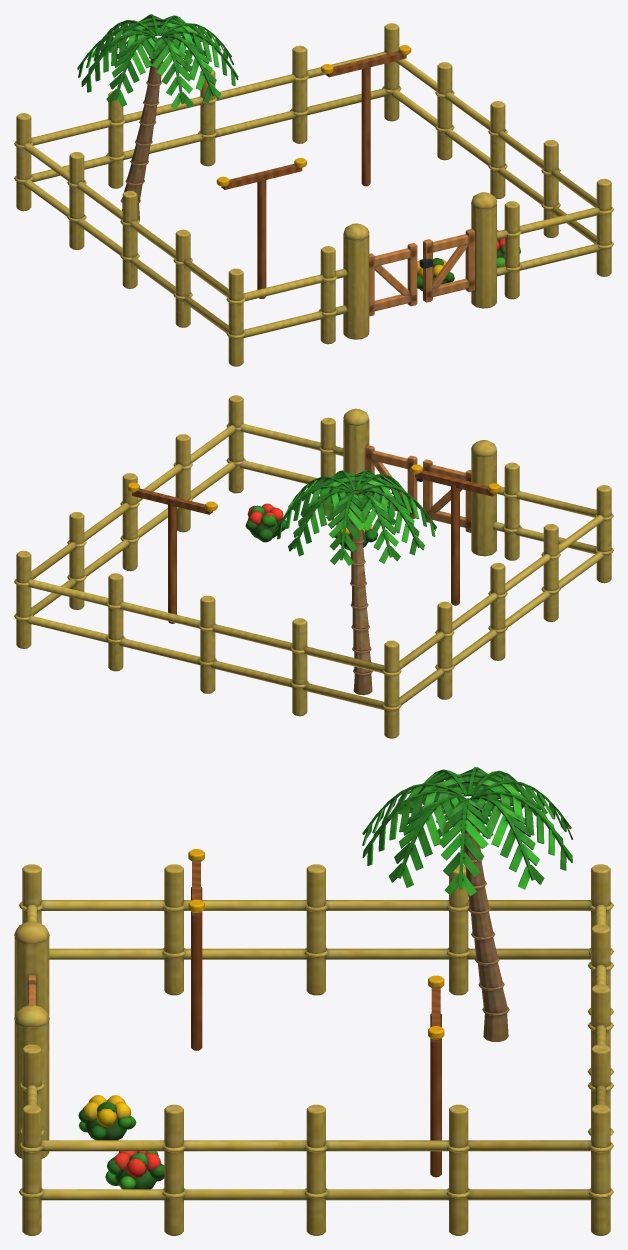
The model's file is parrot_aviary.glb.
The picture shows the model from 3 angles, top to bottom: view 1: azimuth 30°, elevation 25°; view 2: azimuth 150°, elevation 25°; view 3: azimuth 270°, elevation 25°; orthographic projection. The views are drawn at different scales.
Parts seen in each view (by area): view 1: parrot_aviary, gate1, gate0; view 2: parrot_aviary, gate0, gate1; view 3: parrot_aviary.
Part boxes in pixels (box(x1,y1,x2,y2)): parrot_aviary: box(14, 14, 613, 366); gate1: box(419, 229, 474, 302); gate0: box(369, 243, 417, 316); parrot_aviary: box(14, 395, 613, 738); gate0: box(423, 459, 471, 532); gate1: box(365, 445, 422, 518); parrot_aviary: box(14, 767, 613, 1235).
Bounding box in the file's own units: 1.99 × 0.972 × 2.
Materials: 1 (1 with a texture image).
